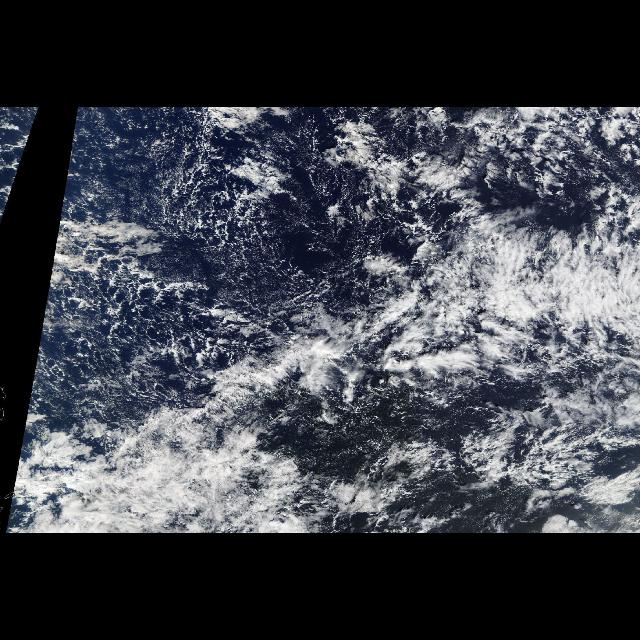Gravel: (29, 107, 402, 407), (28, 108, 40, 142)
